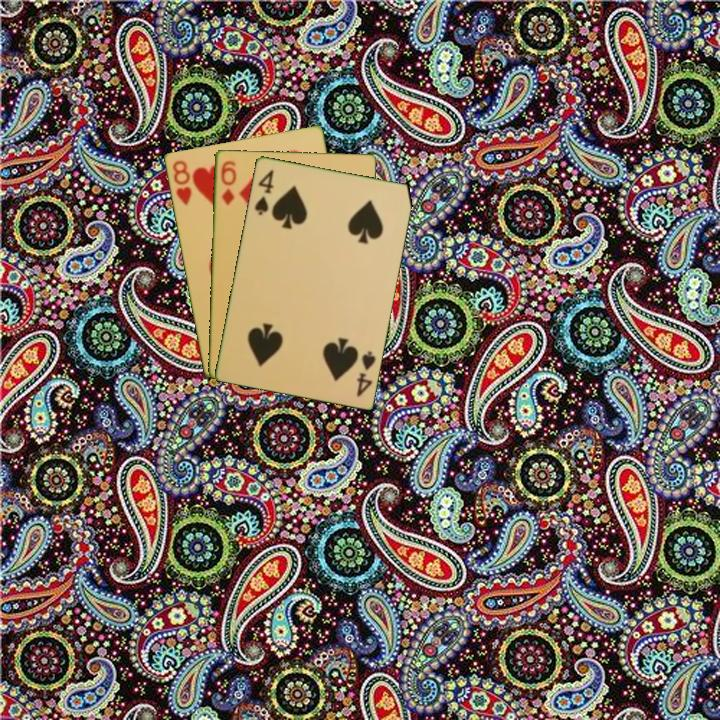4s: (353, 347, 378, 400), (251, 166, 276, 218)
6d: (217, 157, 239, 208)
8h: (169, 157, 194, 209)
